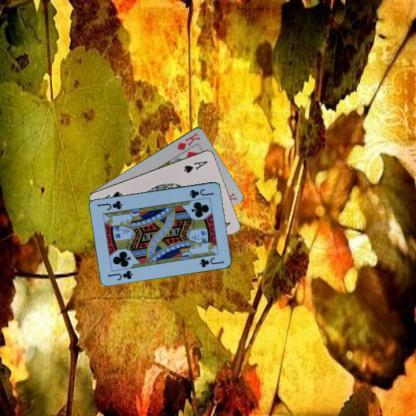As: (181, 158, 209, 174)
Jc: (105, 268, 134, 282), (187, 186, 215, 199)
Kd: (174, 130, 202, 151)
